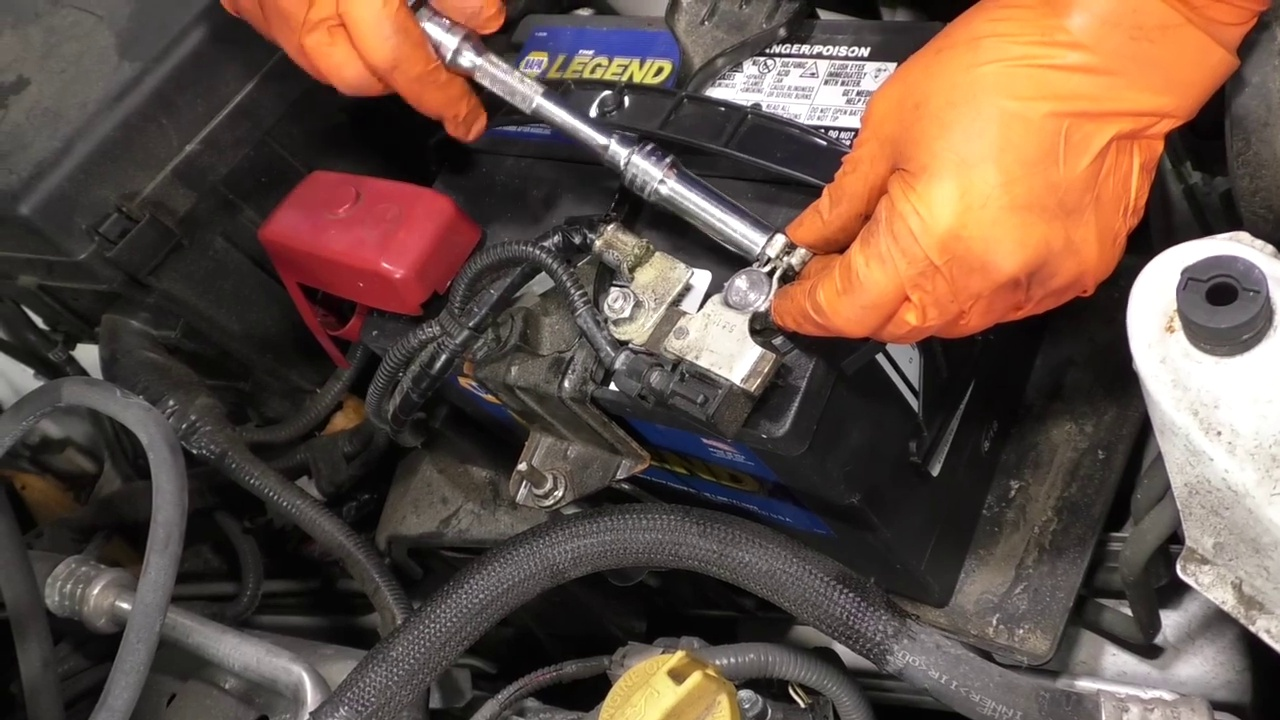battery: (360, 15, 969, 437)
neg_connected: (673, 225, 790, 407)
neg_touched: (660, 142, 974, 408)
pos_connected: (261, 165, 489, 371)
